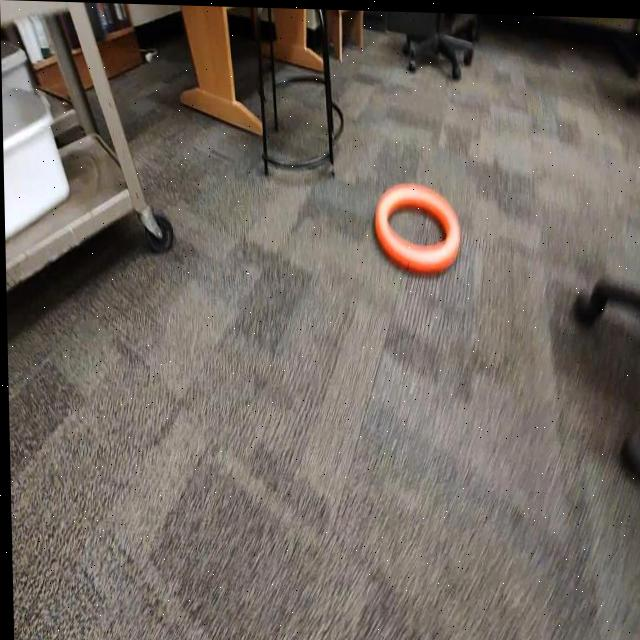note: (371, 179, 461, 275)
